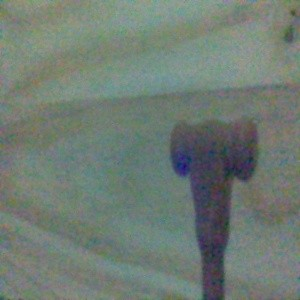palu: (169, 115, 259, 300)
